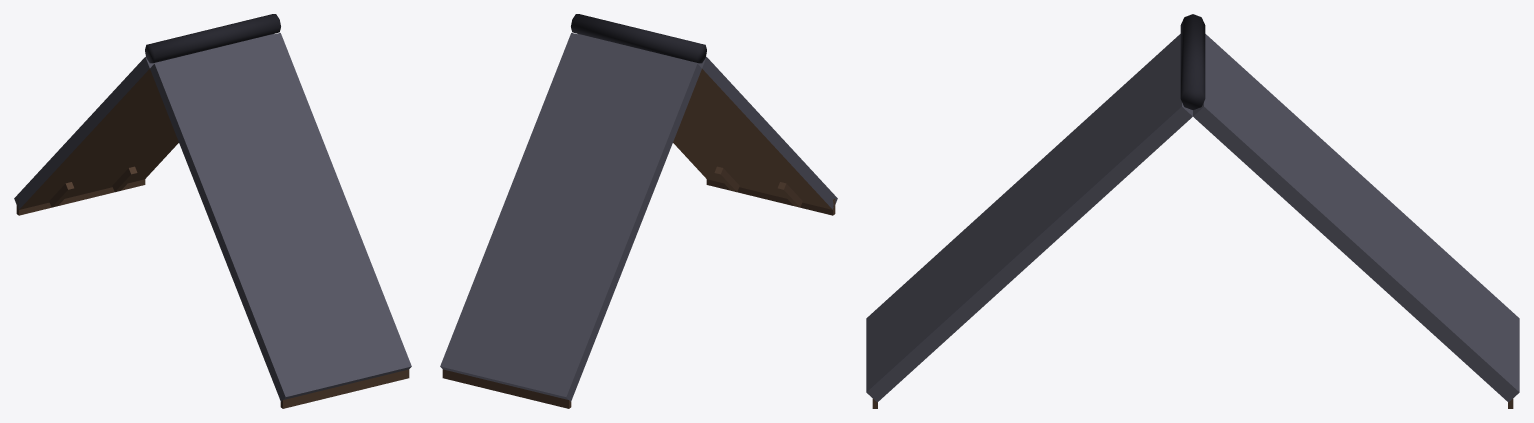
Rendered from kit_stone_slate_w3.glb.
The picture shows the model from 3 angles, left to right: view 1: azimuth 30°, elevation 25°; view 2: azimuth 150°, elevation 25°; view 3: azimuth 270°, elevation 25°; orthographic projection. The views are drawn at different scales.
Visible parts, largest first — view 1: kit_stone_slate_w3; view 2: kit_stone_slate_w3; view 3: kit_stone_slate_w3.
Boxes of the visible parts, x1,y1,x2,y2 form: kit_stone_slate_w3: (14, 14, 411, 408); kit_stone_slate_w3: (440, 14, 837, 408); kit_stone_slate_w3: (866, 14, 1519, 408).
Bounding box in the file's own units: 1 × 2.02 × 3.73.
